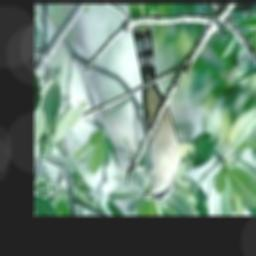Cuckoo: (131, 22, 180, 201)
